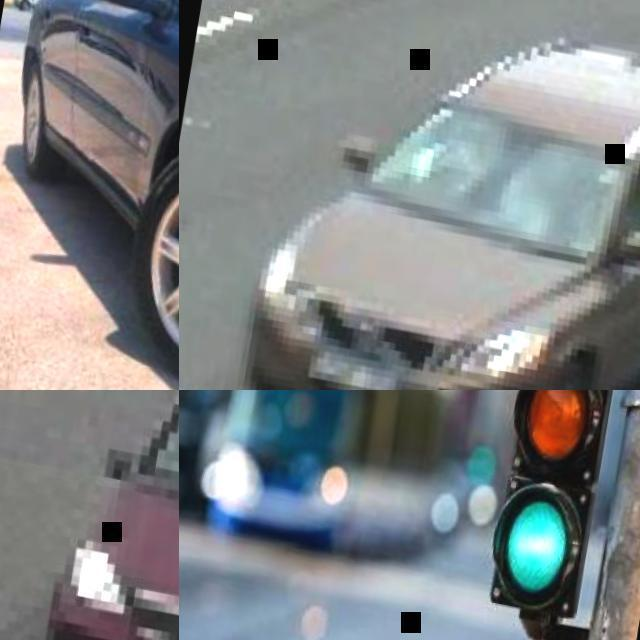car: (244, 50, 636, 387)
